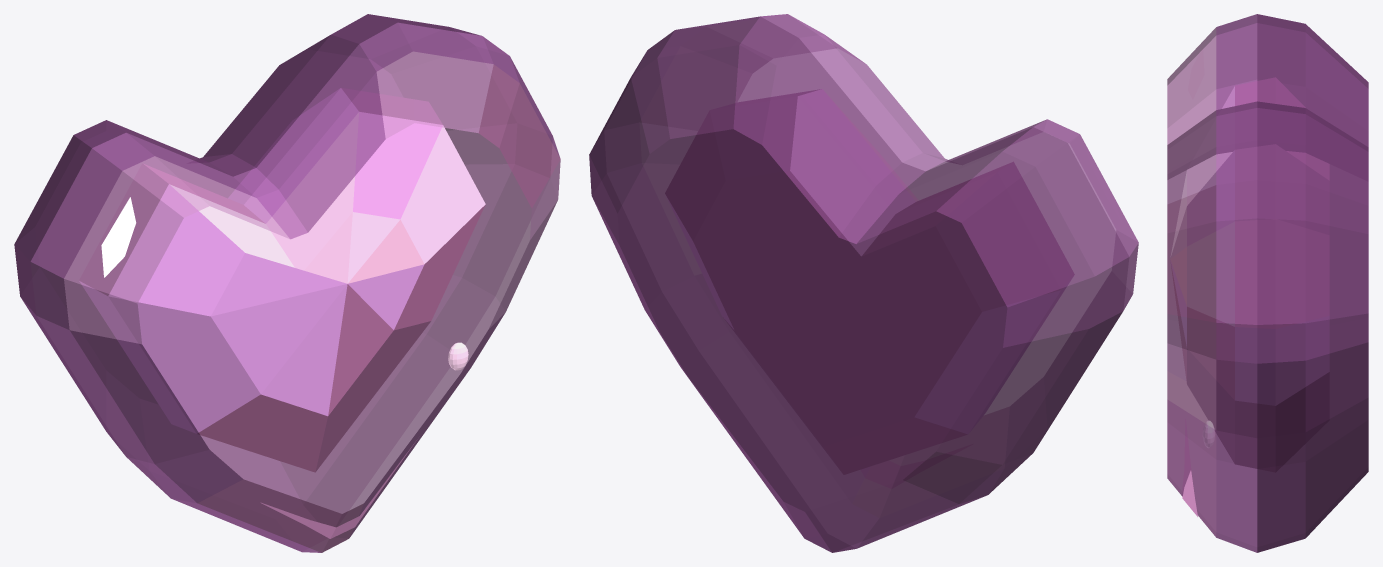
Rendered from Lion_Heart.glb.
3 views of the same model, side by side, from view 1: azimuth 30°, elevation 25°; view 2: azimuth 150°, elevation 25°; view 3: azimuth 270°, elevation 25° (orthographic). The views are drawn at different scales.
Visible parts, largest first — view 1: Lion_Heart; view 2: Lion_Heart; view 3: Lion_Heart.
Boxes of the visible parts, <box> form: Lion_Heart: <box>14,14,560,552</box>; Lion_Heart: <box>589,14,1138,552</box>; Lion_Heart: <box>1167,14,1368,552</box>.
Size of the model in its own units: 1.55 by 1.44 by 0.542.
